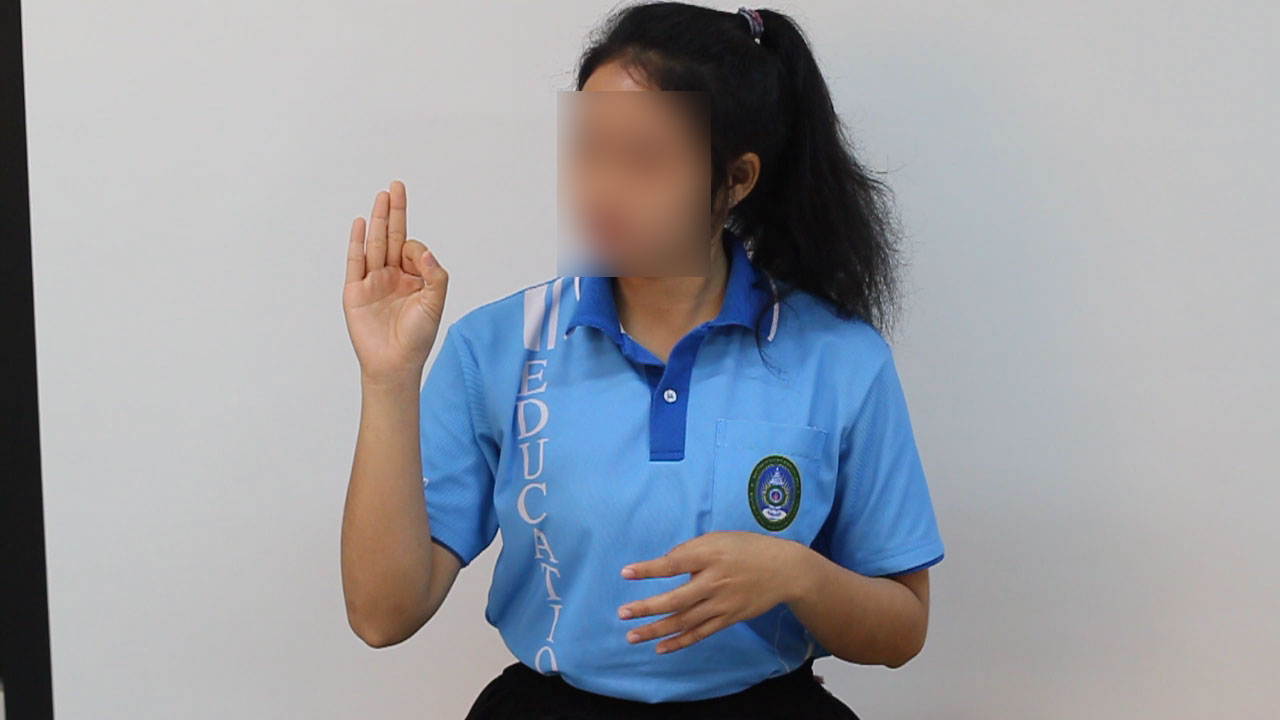for: (333, 165, 457, 405)
